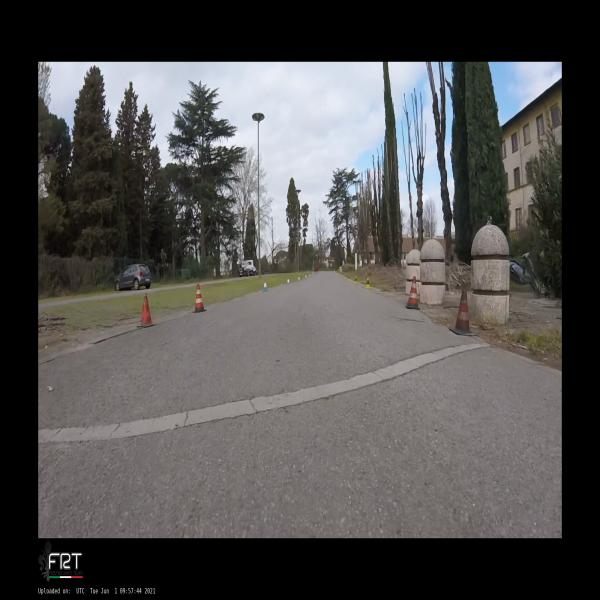blue_cone: (263, 279, 269, 292), (287, 278, 290, 284), (298, 276, 300, 280)
large_orange_cone: (449, 289, 476, 336), (136, 294, 157, 326), (405, 276, 420, 310), (193, 284, 207, 312)
yellow_cone: (365, 277, 370, 289), (355, 276, 358, 283), (348, 275, 350, 280), (345, 274, 346, 278)
